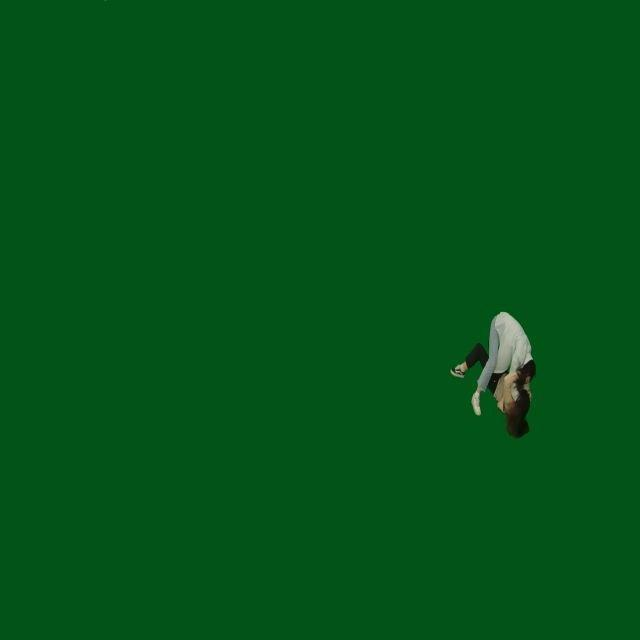fight: (448, 308, 537, 438)
